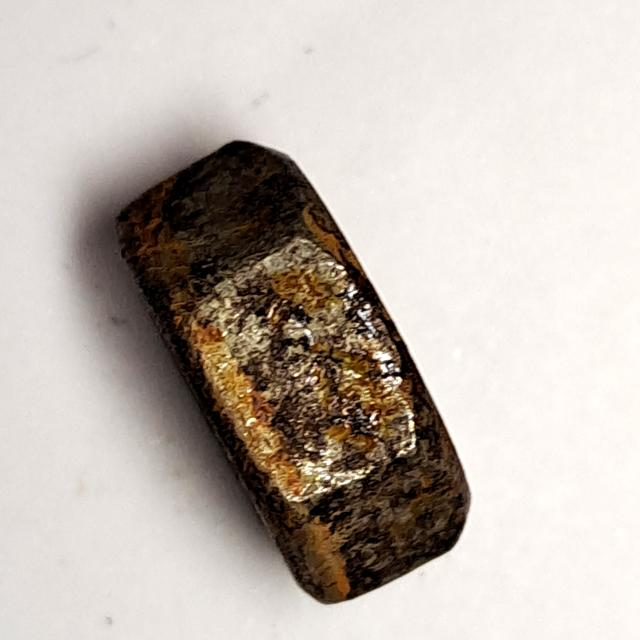Side_Rust: (104, 132, 499, 614)
